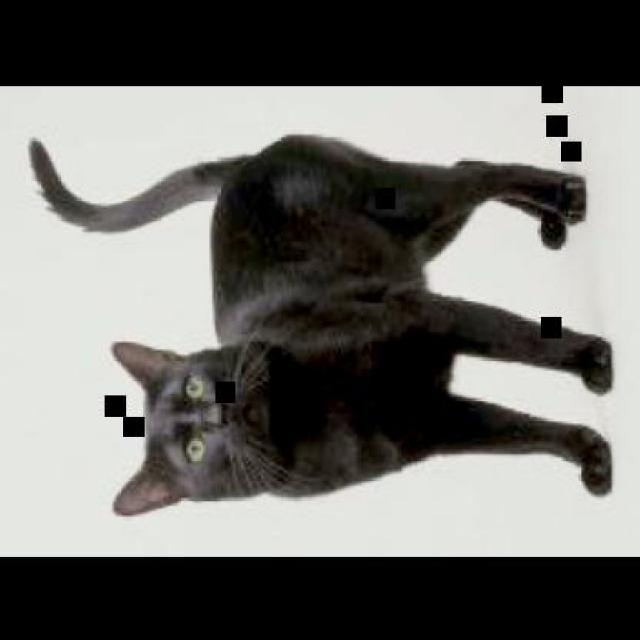unauthorized: (26, 131, 614, 517)
